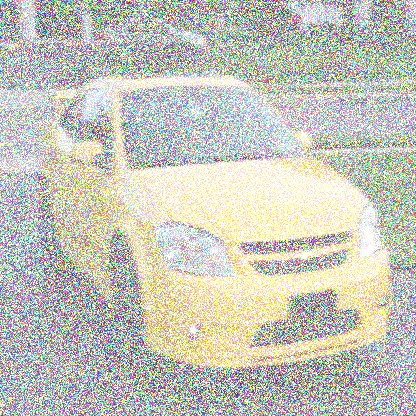Vehicle: (37, 63, 393, 377)
